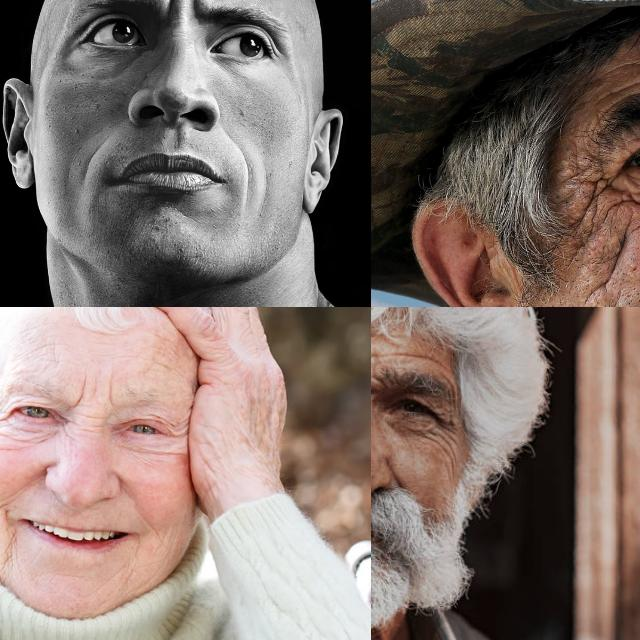bunny_line: (59, 424, 77, 446)
crows_feet: (575, 166, 617, 210), (434, 406, 454, 448), (168, 421, 182, 442), (0, 410, 7, 434)
forehead: (116, 348, 176, 370), (398, 344, 436, 368), (33, 338, 59, 364), (623, 53, 640, 79)
frown_line: (72, 376, 92, 410), (72, 411, 106, 427), (159, 0, 180, 20), (188, 0, 205, 23), (106, 379, 116, 406)
gummy_smile: (233, 146, 254, 212), (76, 134, 100, 184), (387, 464, 407, 492), (144, 512, 160, 536)
masseter: (601, 227, 640, 283)
sad_smile: (3, 532, 19, 572)
